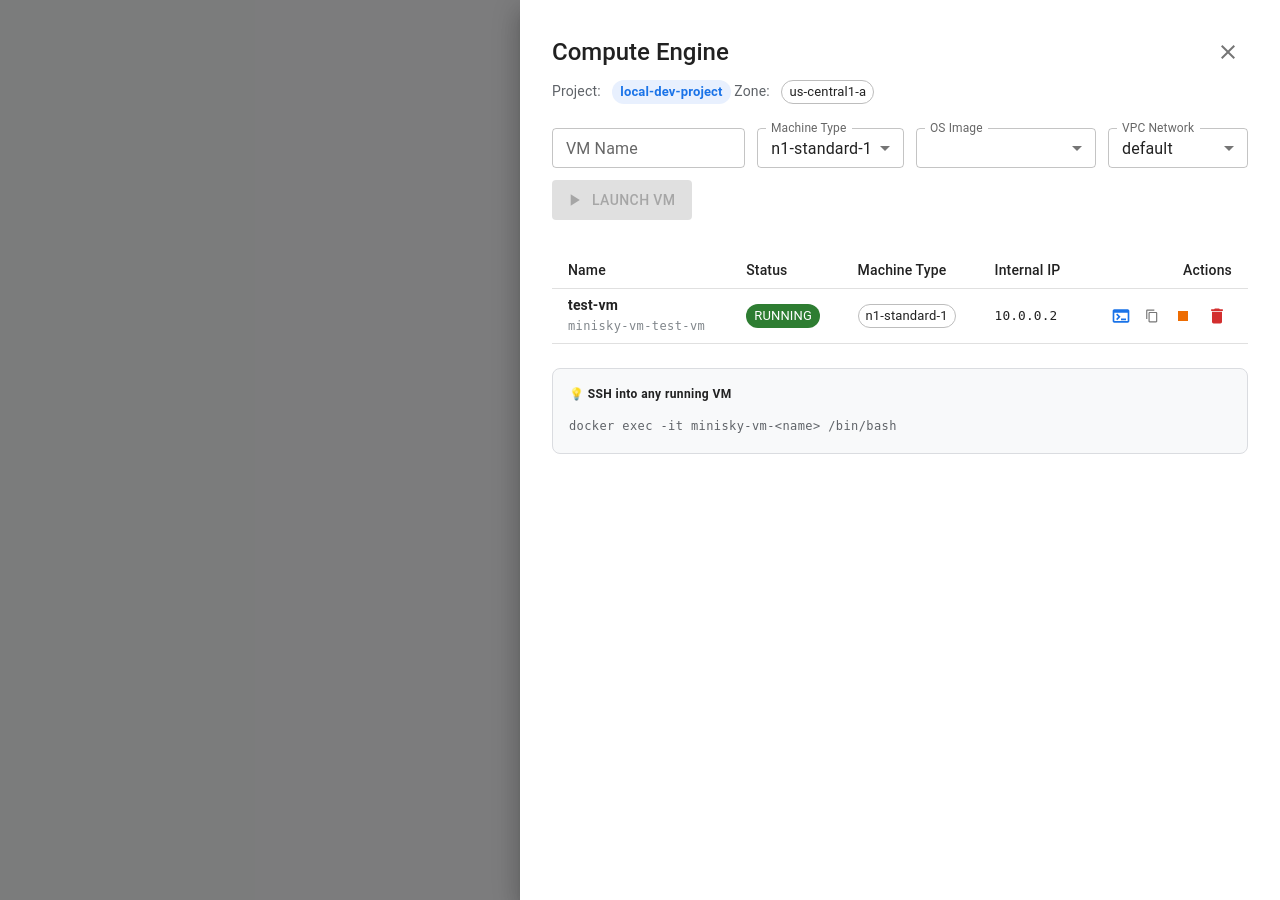
it: Compute mutations › does not report or refresh a failed VM deletion
Click the button named "Delete instance": x=1217, y=316 top-left (1202, 301), bottom-right (1232, 331)
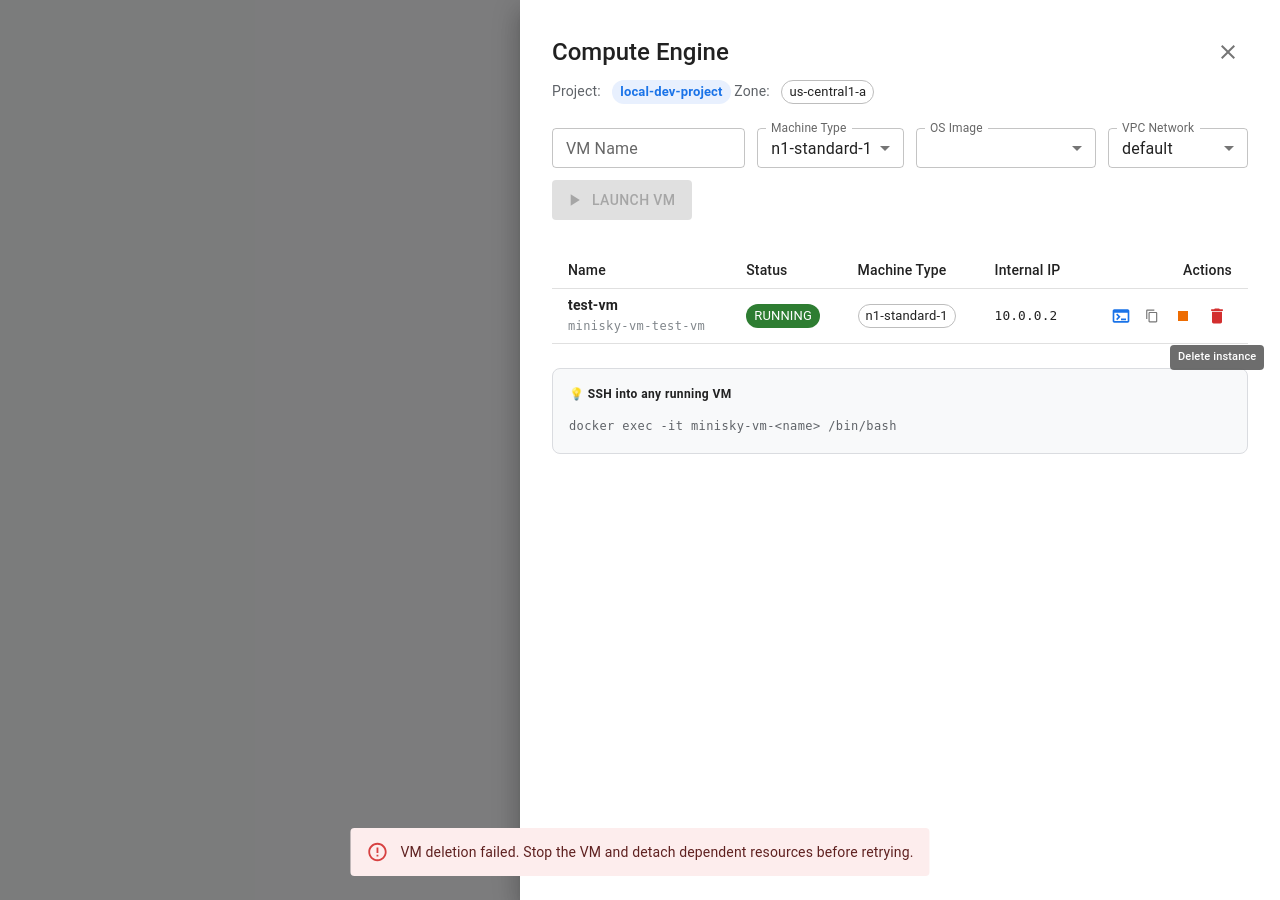
Expected: the message does not show "client_secret", top-left (350, 828), bottom-right (930, 876)
Expected: the message reads "VM deletion failed. Stop the VM and detach dependent resources before retrying.", top-left (400, 844), bottom-right (914, 860)
